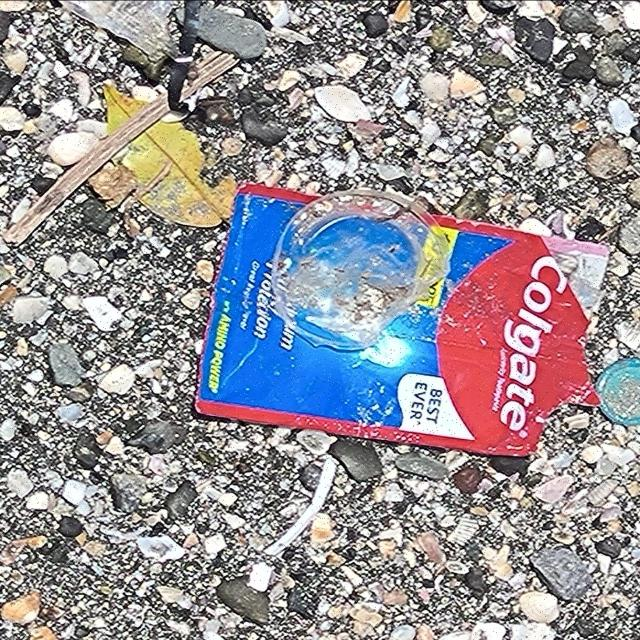plastic_waste: (197, 178, 605, 457)
